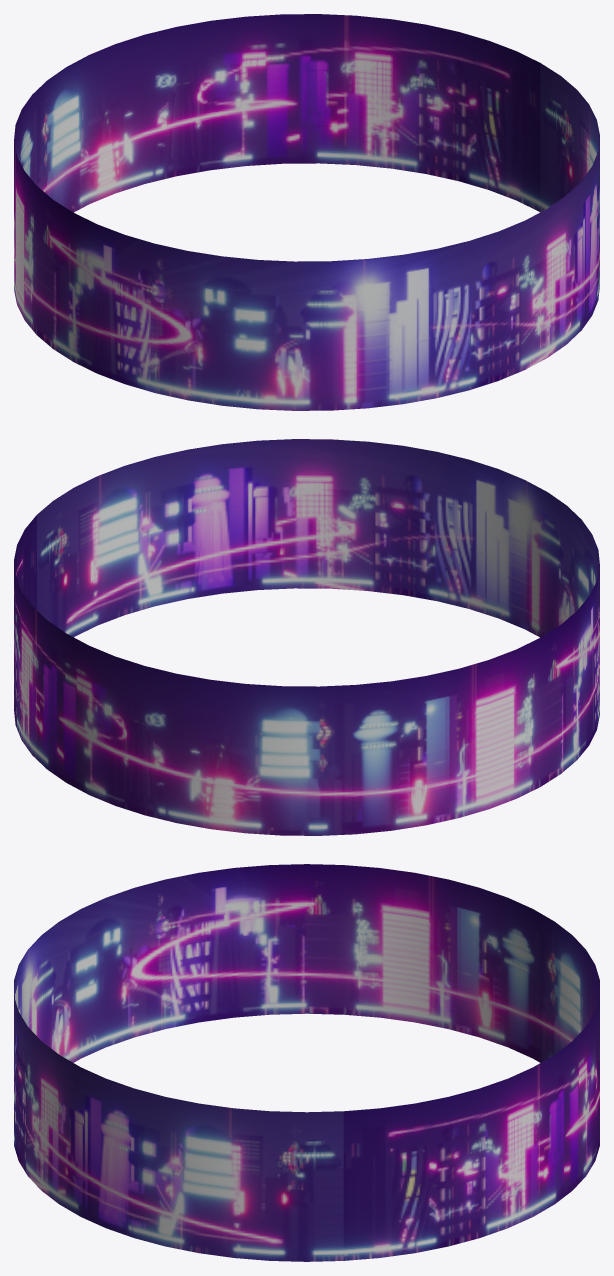
File: curcle.fbx
3 renders of one model, top to bottom at view 1: azimuth 30°, elevation 25°; view 2: azimuth 150°, elevation 25°; view 3: azimuth 270°, elevation 25°, orthographic.
Visible parts, largest first — view 1: pCylinder11; view 2: pCylinder11; view 3: pCylinder11.
Boxes of the visible parts, left/top/right/bottom form: pCylinder11: left=14, top=14, right=599, bottom=410; pCylinder11: left=14, top=439, right=599, bottom=835; pCylinder11: left=14, top=864, right=599, bottom=1261.
Bounding box in the file's own units: 577 × 162 × 576.
